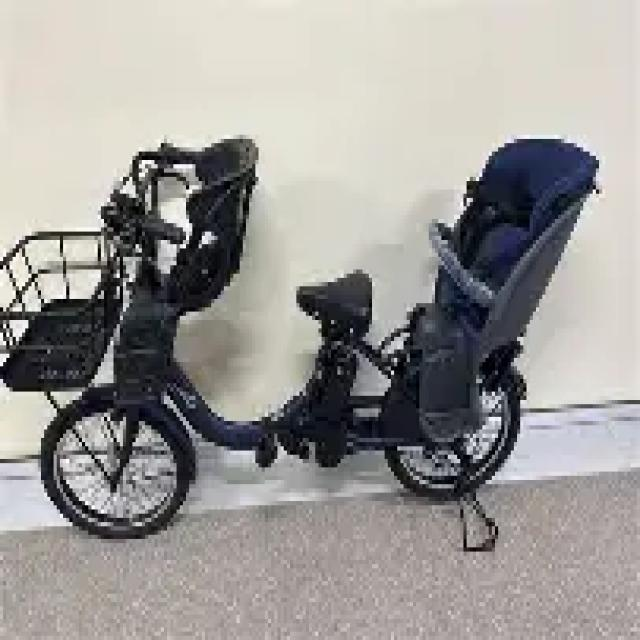basket: (0, 228, 124, 388)
battery: (314, 350, 356, 423)
childseat: (405, 135, 601, 443), (116, 132, 261, 402)
